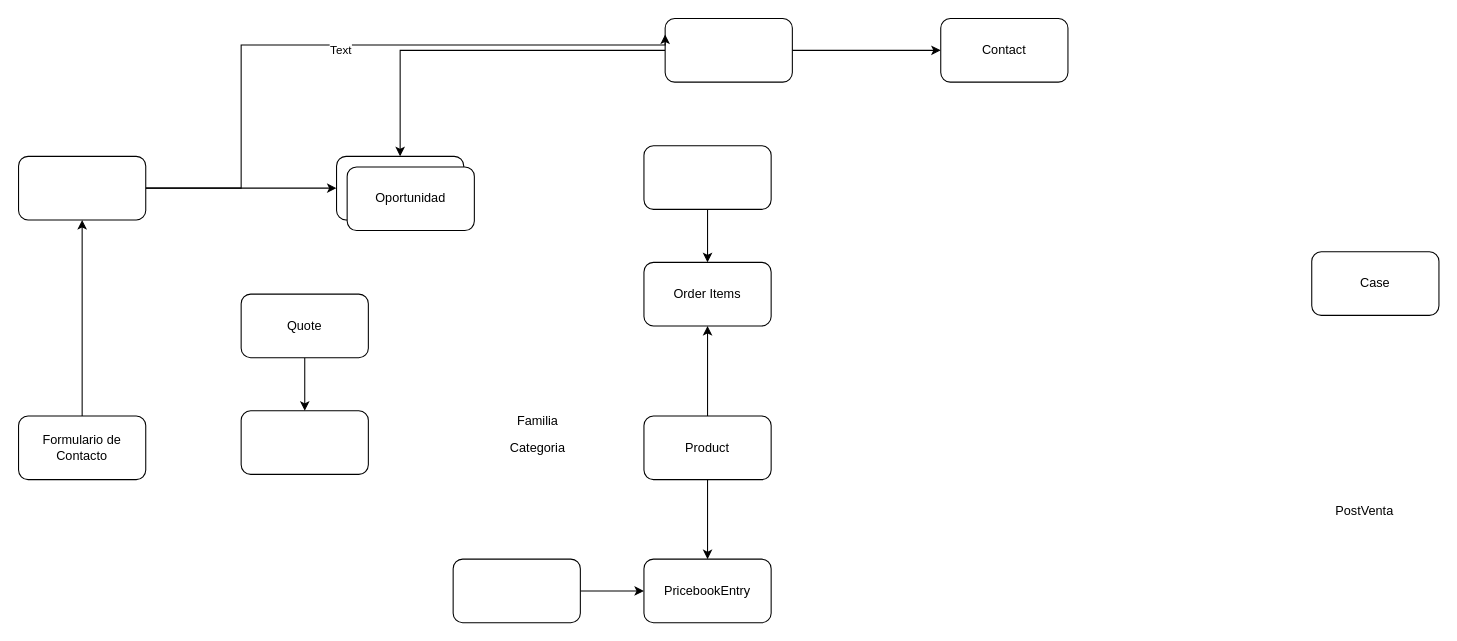
Image size: 1457x641. Some labels were removed from this diagram. Here are the shapes that lost their labels. From the top down, the centre of each, then its label:
At (x=728, y=49): "Account Cuenta".
At (x=81, y=187): "Lead Prospecto".
At (x=707, y=177): "Order".
At (x=304, y=442): "Quote Items".
At (x=516, y=590): "Pricebook".
